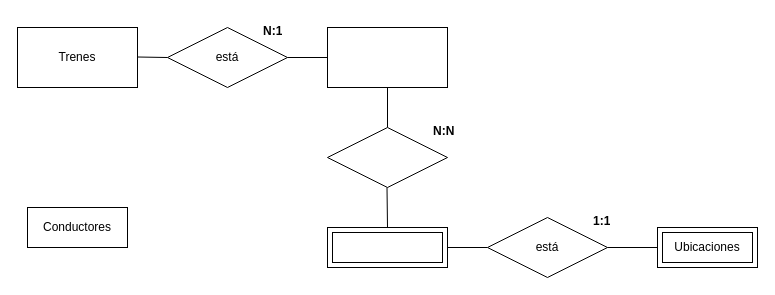
Some shapes in this 775 by 295 pixel diagram are drawn without their labels. Here are the shapes that lost their labels. From the top down, the box of each, then its label:
(326, 26, 448, 88): Líneas
(326, 126, 448, 188): tiene
(326, 226, 448, 268): Estaciones
